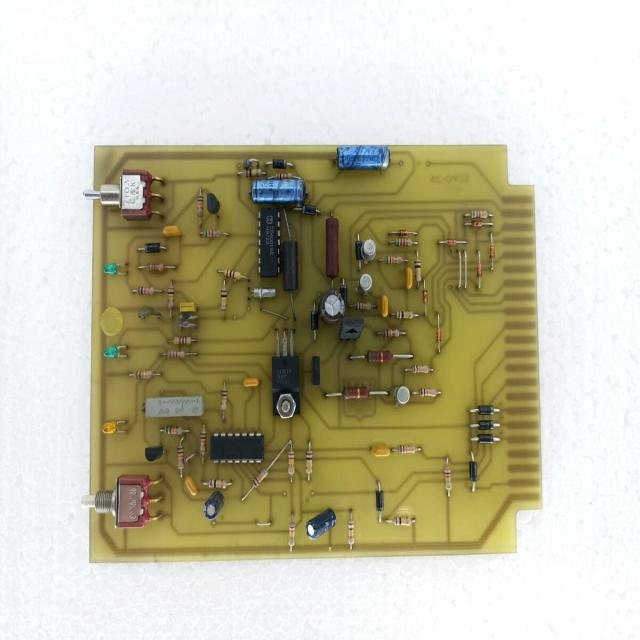pcb: (82, 142, 543, 561), (270, 353, 301, 418), (209, 431, 264, 463), (143, 393, 205, 418)
